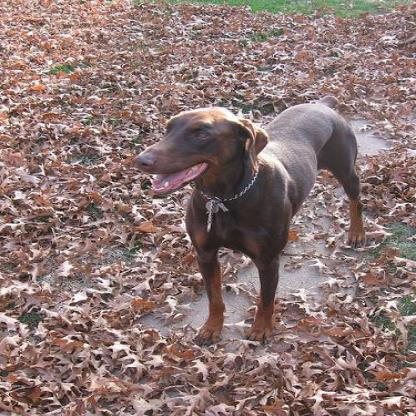Doberman: (128, 93, 362, 343)
